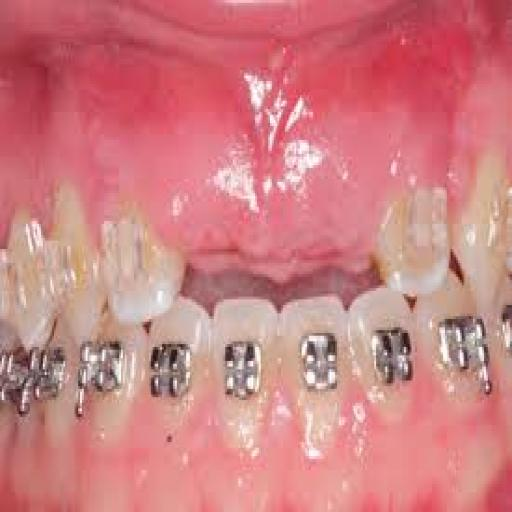correct_brace: (218, 329, 268, 412), (368, 321, 414, 397), (297, 326, 341, 402), (147, 343, 197, 407)
incorrect_brace: (143, 291, 210, 452), (348, 291, 418, 428)
